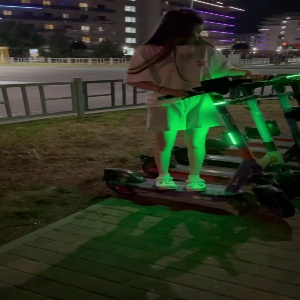human on a scooter: (97, 9, 297, 220)
